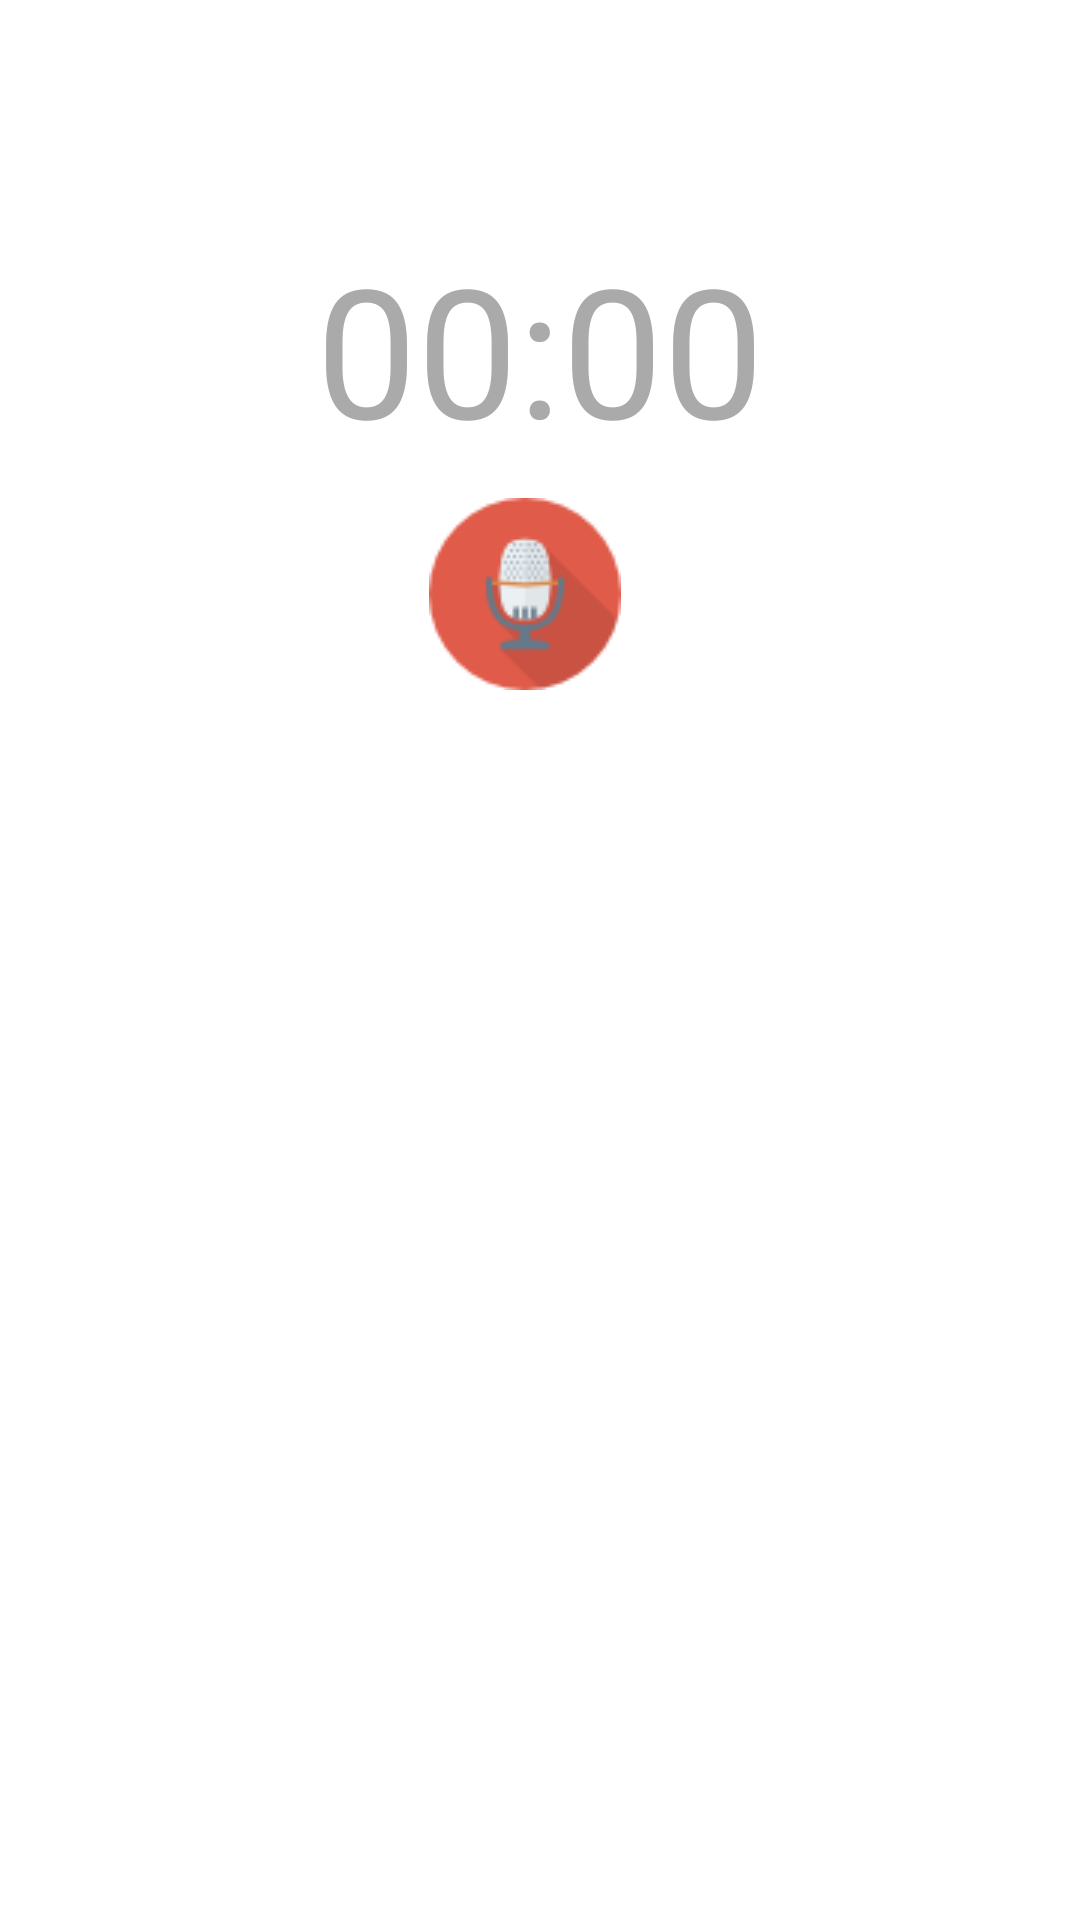

Icons on this 1080w x 1920h Android screen, each with the point to tap as [x,y]:
microphone: [525,594]
